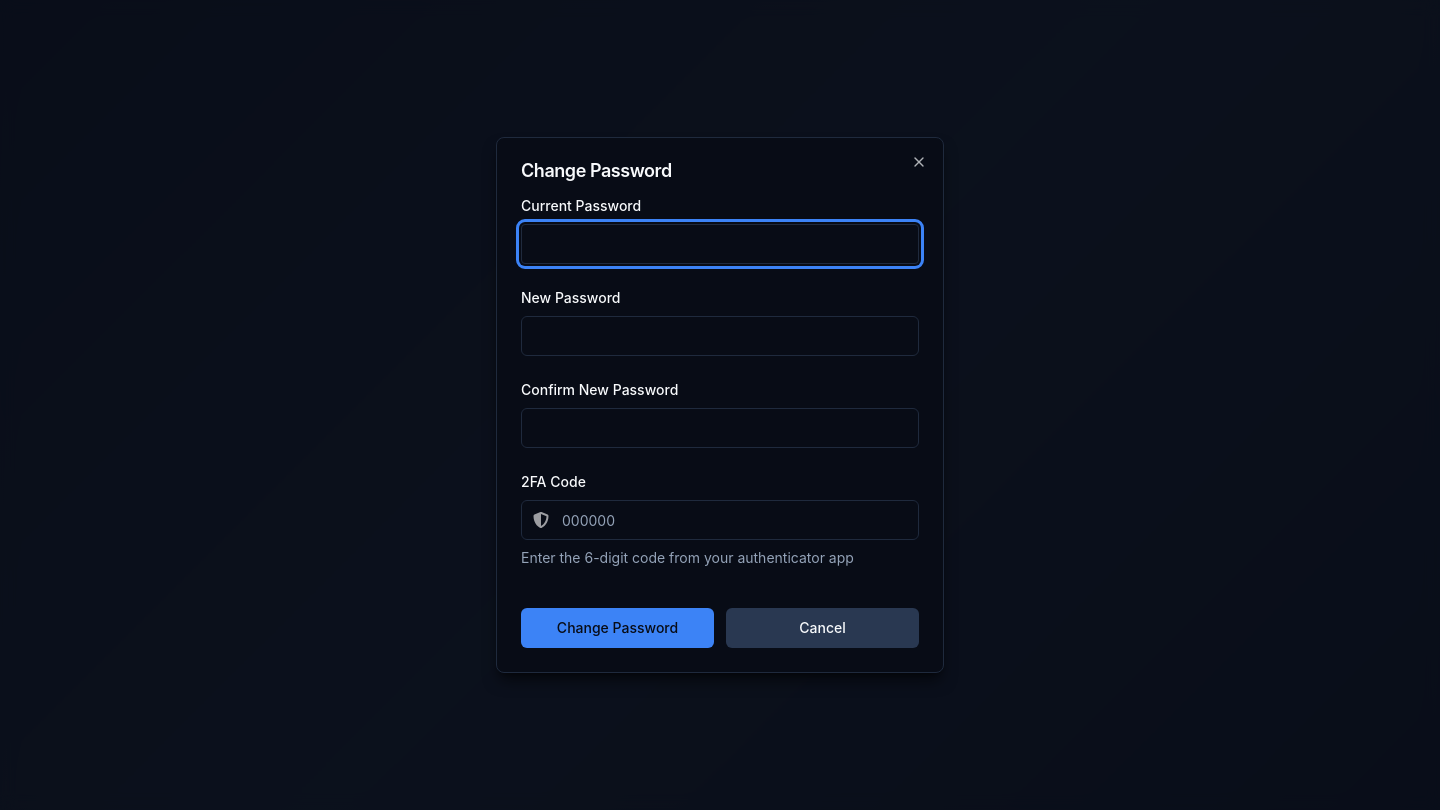
Test case: ChangePasswordDialog › requires a six-digit OTP when 2FA is enabled
The image size is (1440, 810).
In the password field labelled "Current Password": (720, 244) [521,224,919,264], type "oldpassword1"
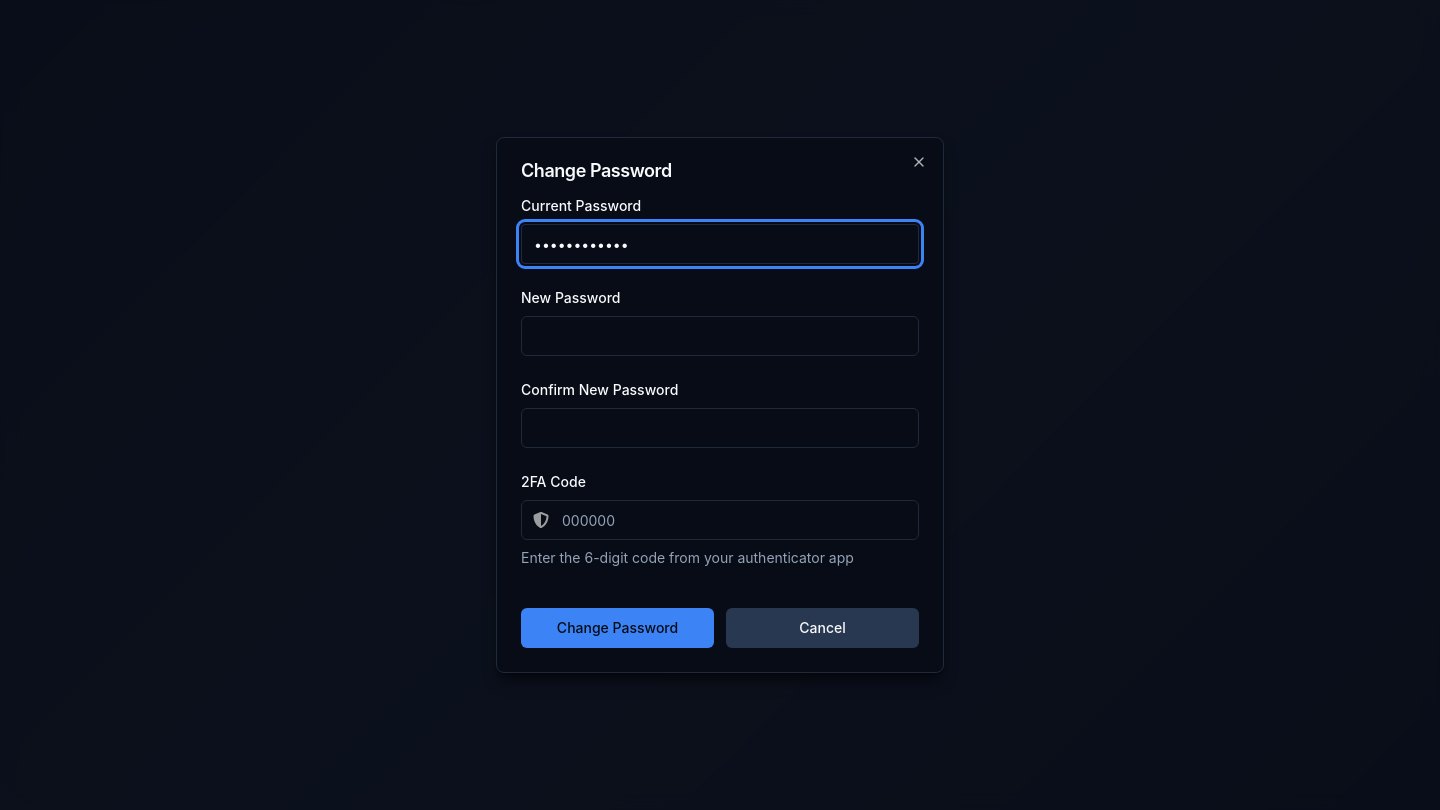
In the password field labelled "New Password": (720, 336) [521,316,919,356], type "newpassword1"
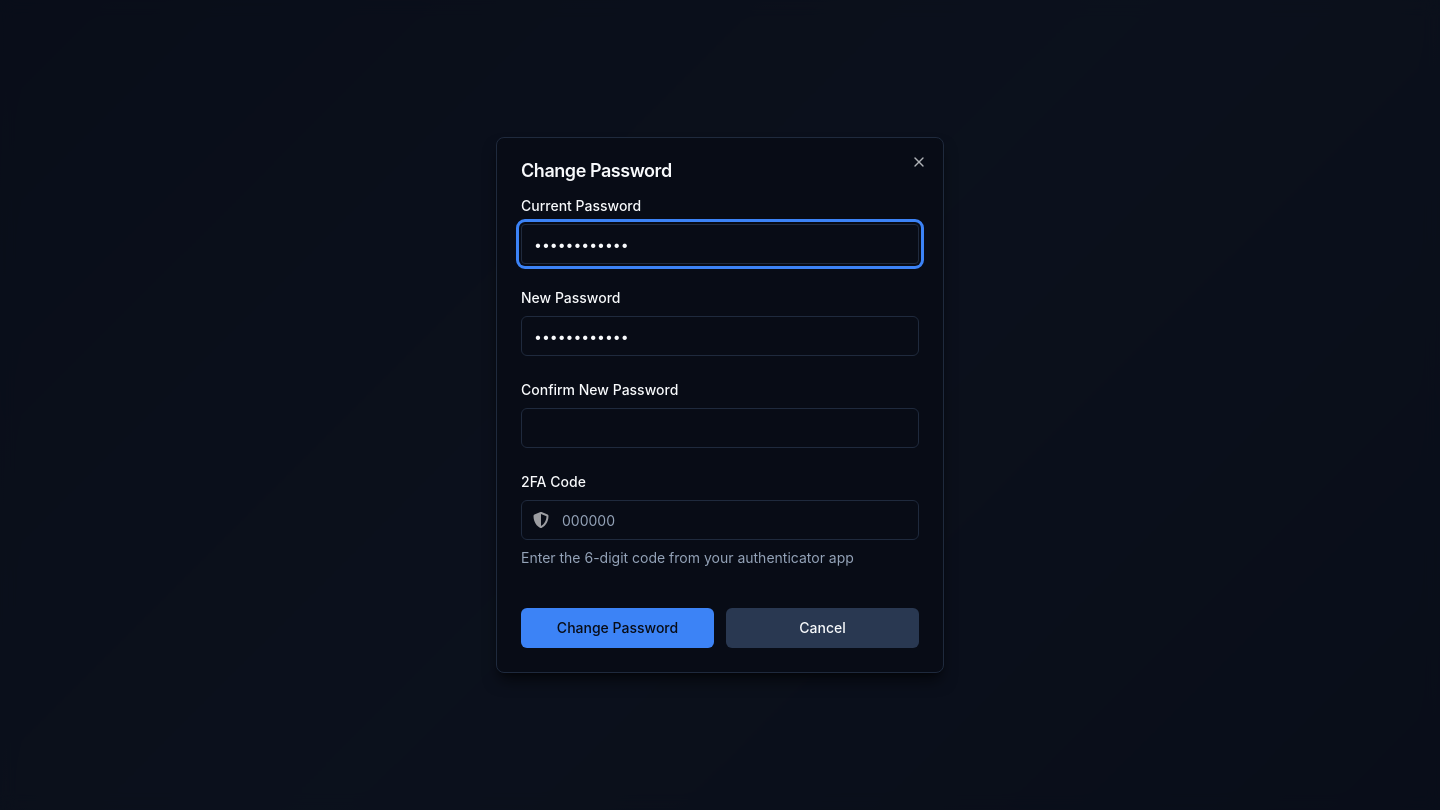
In the password field labelled "Confirm New Password": (720, 428) [521,408,919,448], type "newpassword1"
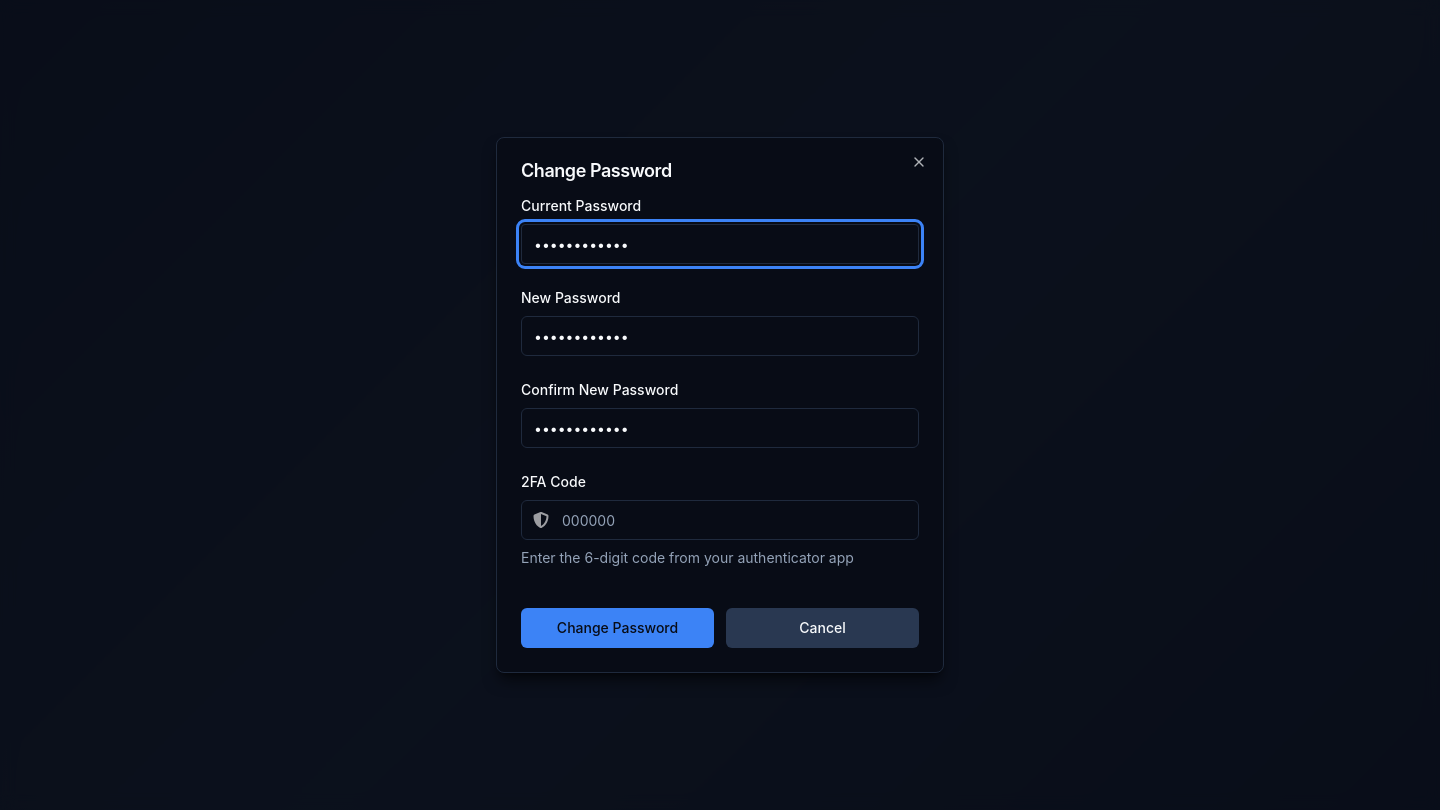
In the field labelled "2FA Code": (720, 520) [521,500,919,540], type "123"
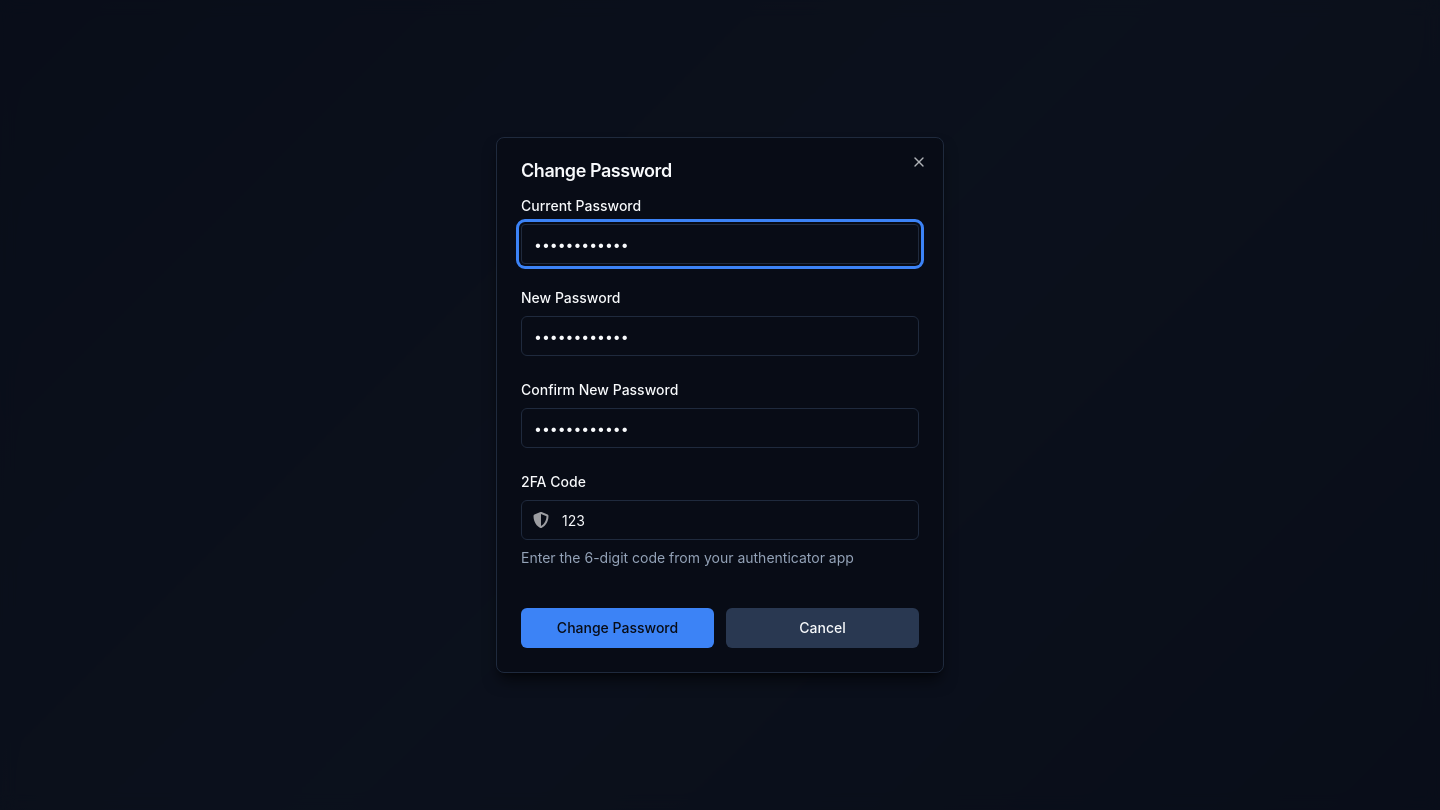
Submit the form labelled "Current Password", box [521,196,919,648]
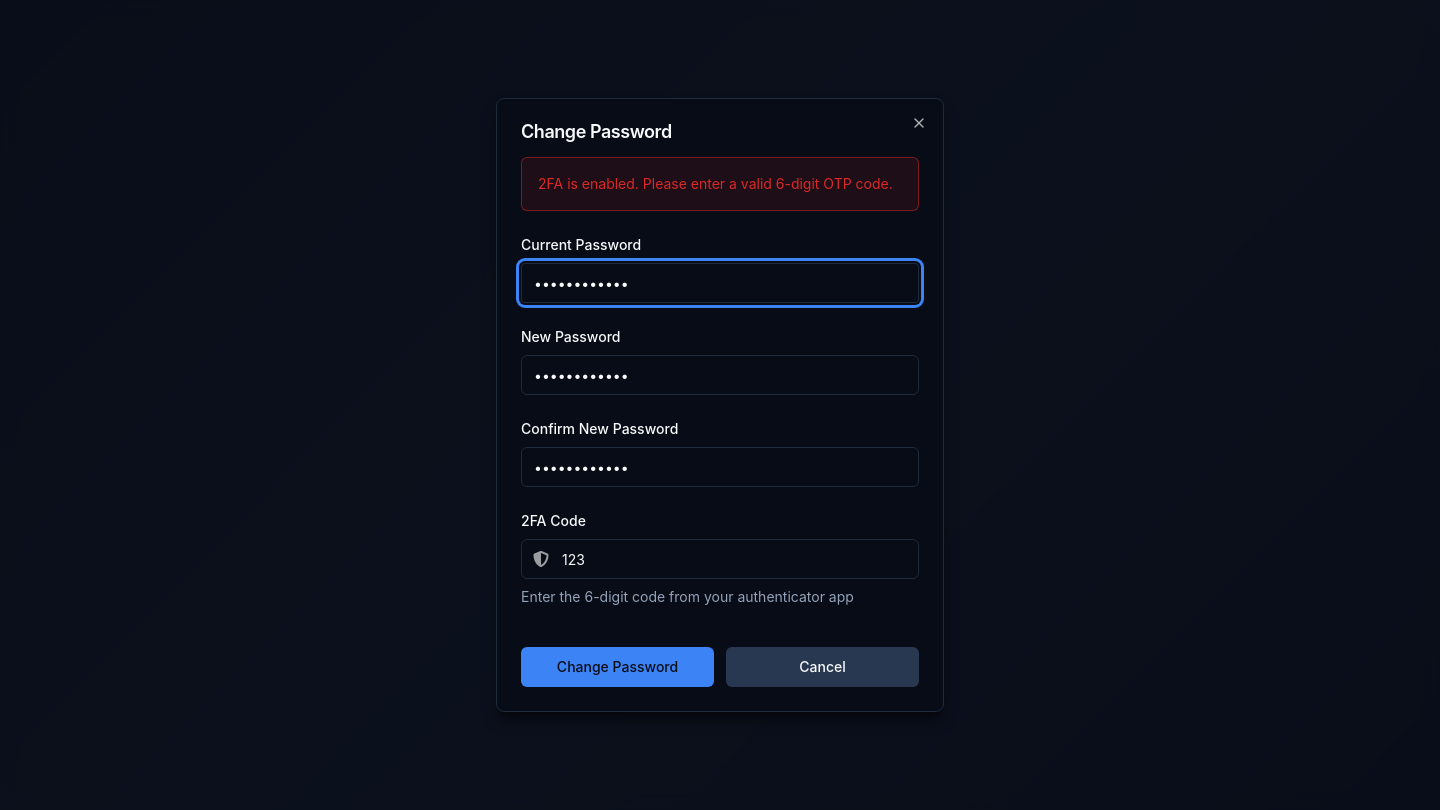
Expected: the text "2FA is enabled. Please enter a valid 6-digit OTP code." is shown, [538,174,902,194]
